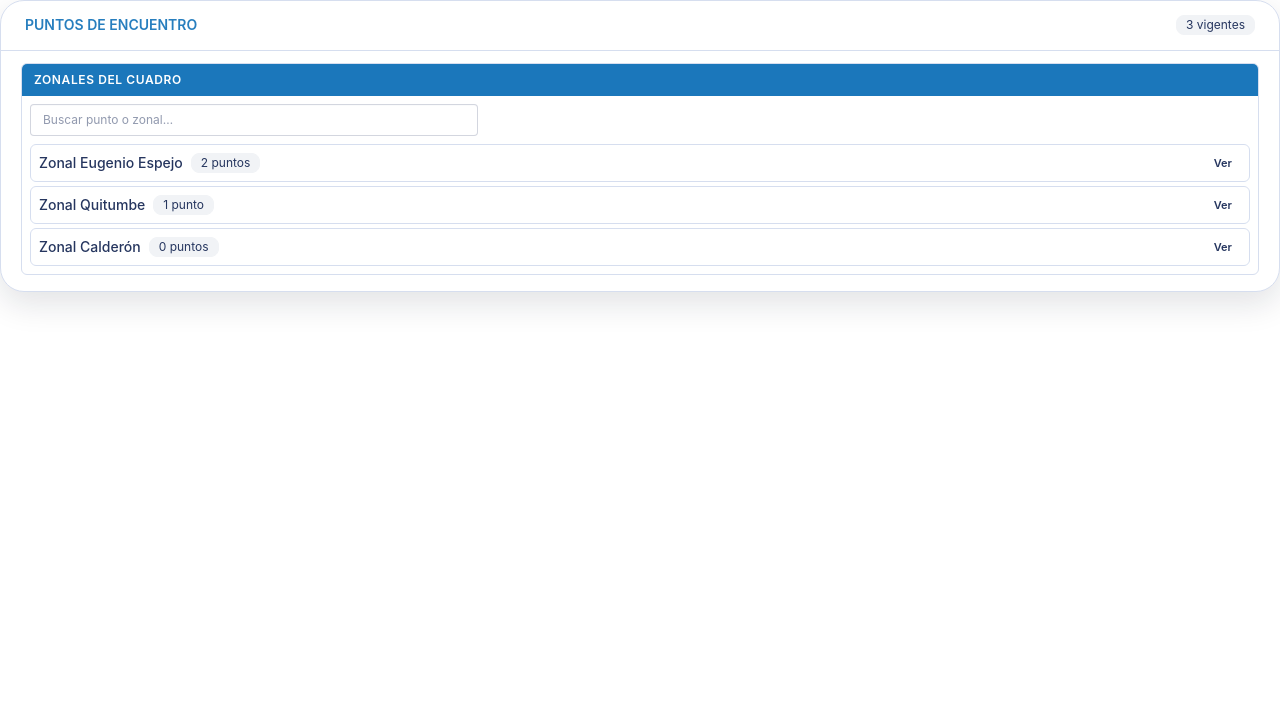
Test: los puntos se leen por zonal › el nombre de la zonal se dice una vez, y sus puntos al abrir
The image size is (1280, 720).
expect the text "Zonal Eugenio Espejo" is shown once: met, box [39,153,183,173]
Click the button with aria-label "puntos de Zonal Eugenio Espejo" at (1223, 163), box [1205,151,1241,175]
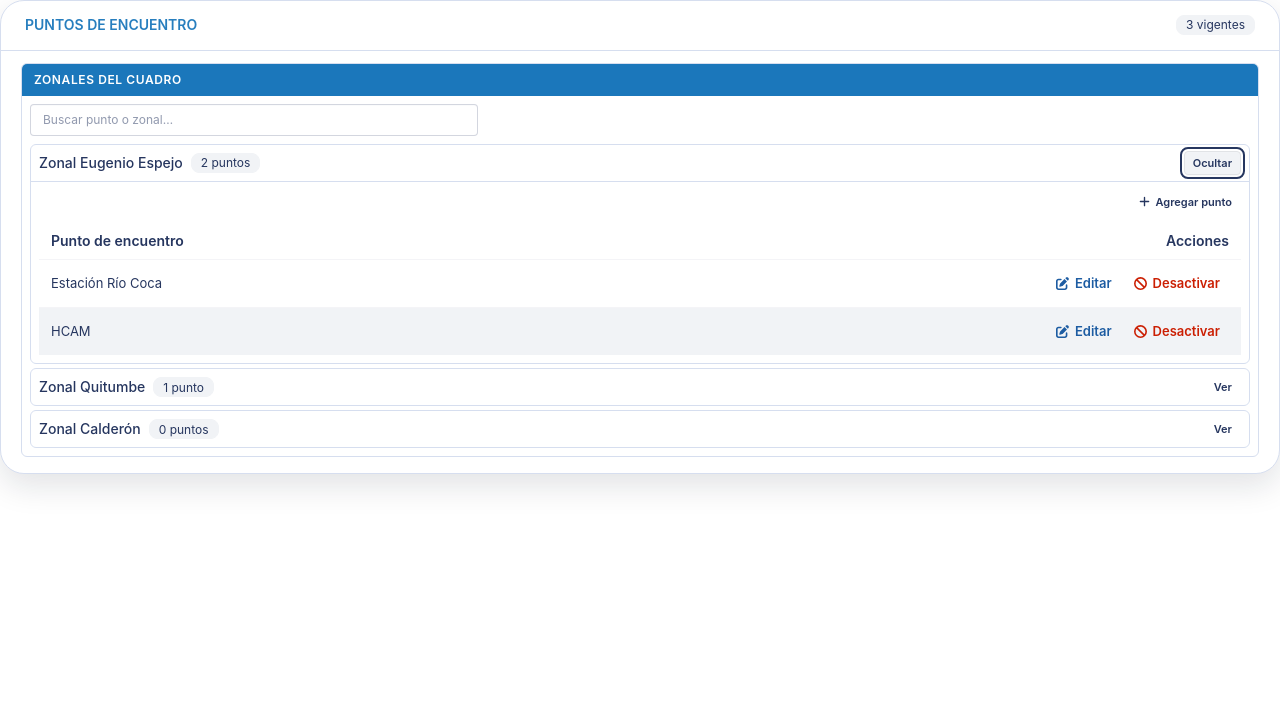
expect the text "HCAM" is shown: met, box [39,308,558,355]
expect the text "Estación Río Coca" is shown: met, box [39,260,558,308]
